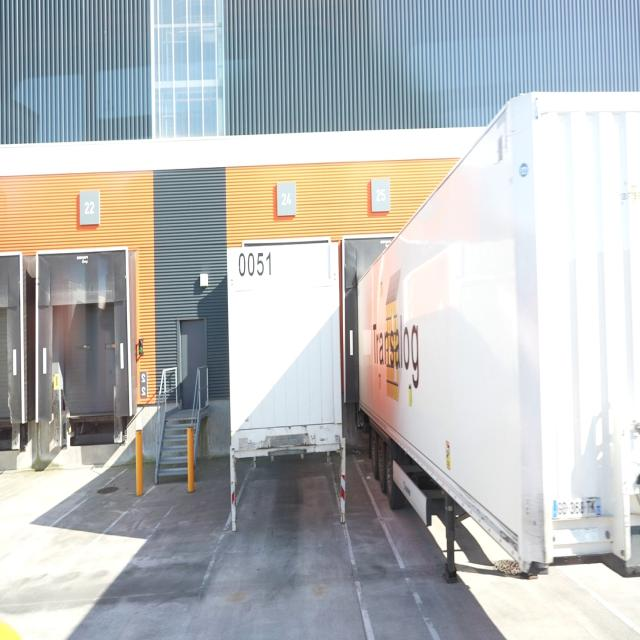Code: (236, 246, 276, 285)
